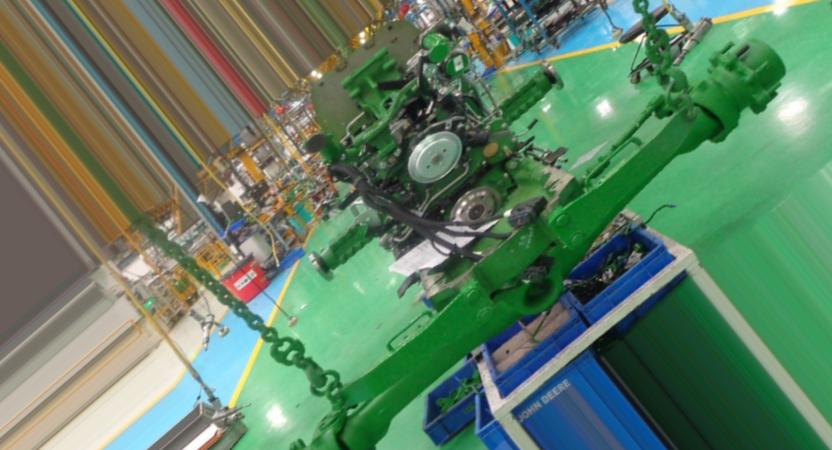engine: (259, 30, 788, 450)
